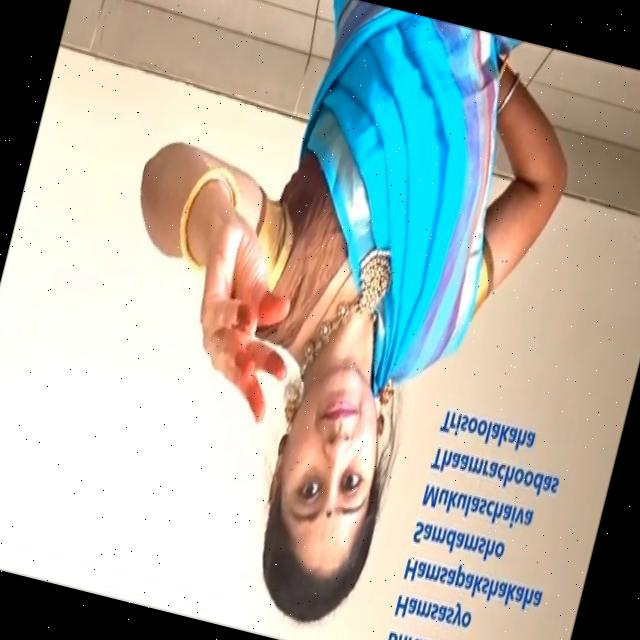Samdamsha: (162, 222, 319, 444)
lady: (232, 355, 424, 631)
text: (375, 395, 588, 640)
